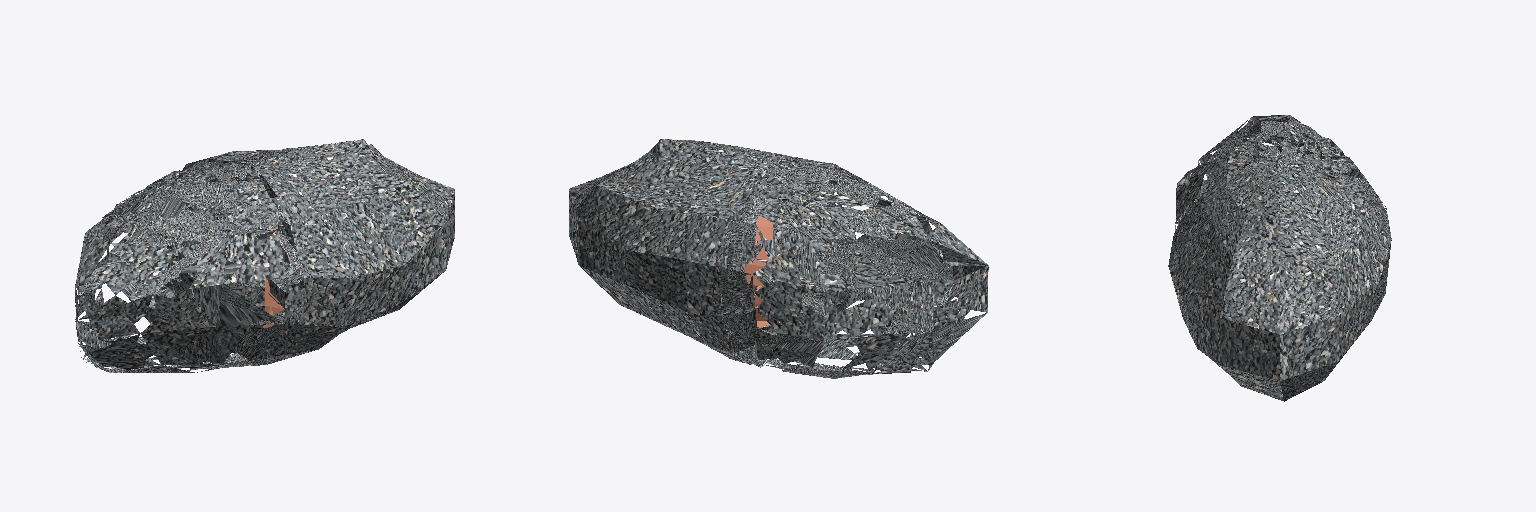
The picture shows the model from 3 angles: view 1: azimuth 30°, elevation 25°; view 2: azimuth 150°, elevation 25°; view 3: azimuth 270°, elevation 25°; orthographic projection.
Parts seen in each view (by area): view 1: shell; view 2: shell, gasket; view 3: shell.
Boxes of the visible parts, x1=… form: shell: x1=75, y1=139, x2=454, y2=372; shell: x1=569, y1=139, x2=988, y2=378; gasket: x1=744, y1=186, x2=816, y2=331; shell: x1=1168, y1=115, x2=1391, y2=401.
Bounding box in the file's own units: 87.17 × 40.42 × 42.31.
Materials: 4 (1 with a texture image).